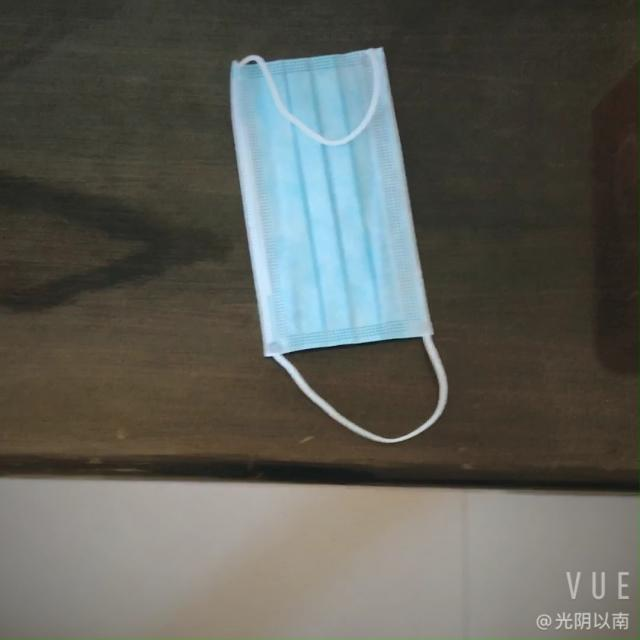face mask: (230, 32, 431, 362)
